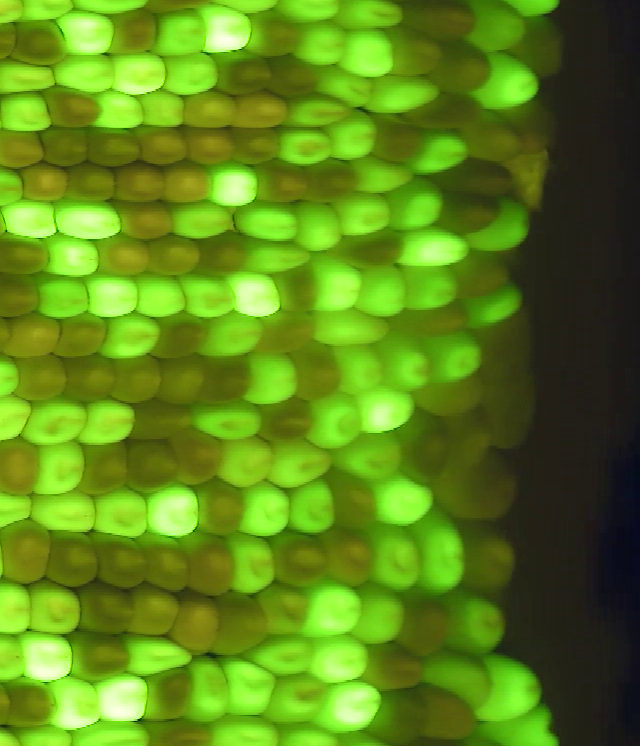fluorescent: (410, 503, 467, 597), (469, 52, 540, 113), (479, 655, 543, 722), (425, 653, 496, 711), (445, 593, 508, 654), (221, 651, 277, 719), (368, 524, 424, 591), (264, 432, 333, 486), (476, 704, 563, 746), (303, 392, 365, 449), (460, 1, 527, 53), (269, 672, 332, 727), (468, 199, 533, 252), (369, 473, 434, 526), (18, 399, 91, 446), (219, 435, 278, 492), (226, 533, 279, 596), (397, 227, 472, 271), (117, 633, 195, 675), (427, 329, 485, 385), (323, 681, 384, 734), (190, 399, 266, 441), (304, 582, 362, 637), (17, 629, 76, 683), (383, 331, 433, 394), (188, 656, 235, 723), (389, 177, 445, 233), (352, 387, 417, 435), (247, 636, 316, 681), (312, 251, 361, 314), (312, 307, 393, 345), (355, 586, 407, 645), (411, 127, 471, 177), (33, 489, 98, 535), (145, 485, 201, 538), (149, 7, 210, 55), (334, 433, 402, 476), (246, 352, 301, 405), (31, 582, 86, 635), (312, 635, 371, 684), (239, 482, 292, 536), (92, 487, 148, 538), (365, 76, 442, 113), (94, 675, 152, 724), (158, 52, 221, 97), (398, 264, 461, 309), (202, 313, 266, 357), (332, 342, 386, 394), (34, 441, 88, 493), (56, 10, 118, 55), (233, 201, 301, 242), (100, 315, 164, 358), (109, 52, 170, 97), (334, 194, 396, 238), (337, 28, 395, 75), (54, 201, 123, 240), (52, 53, 117, 94), (243, 237, 313, 275), (46, 681, 98, 732), (328, 112, 381, 162), (85, 86, 148, 128), (317, 64, 374, 110), (182, 271, 239, 317), (42, 234, 104, 276), (200, 4, 252, 54), (358, 265, 407, 318), (231, 271, 285, 319), (287, 481, 335, 535), (463, 286, 526, 327), (38, 275, 92, 322), (353, 155, 418, 194), (136, 272, 189, 319), (0, 91, 56, 135), (205, 714, 282, 746), (289, 24, 352, 63), (298, 200, 345, 252), (276, 125, 334, 167), (82, 273, 138, 316), (208, 164, 262, 208), (83, 398, 132, 446), (132, 87, 188, 128), (286, 92, 353, 126), (168, 204, 235, 237), (335, 1, 406, 32), (3, 199, 56, 239), (74, 721, 157, 746), (0, 57, 58, 92), (0, 581, 34, 633), (269, 1, 340, 25), (0, 396, 34, 442), (0, 485, 33, 532), (16, 1, 77, 25), (279, 723, 340, 746), (12, 725, 75, 746), (208, 1, 281, 17), (71, 1, 149, 15), (335, 727, 388, 746), (0, 1, 30, 29), (511, 1, 561, 15)
nonfluorescent: (433, 454, 524, 520), (475, 374, 545, 452), (471, 317, 542, 386), (393, 409, 453, 489), (459, 529, 520, 598), (508, 15, 569, 83), (189, 479, 250, 541), (91, 528, 150, 592), (328, 467, 383, 535), (212, 592, 270, 655), (45, 524, 101, 589), (0, 521, 55, 587), (368, 688, 430, 746), (184, 532, 237, 599), (169, 430, 229, 489), (432, 40, 493, 98), (138, 531, 193, 595), (270, 531, 331, 587), (431, 158, 514, 199), (319, 526, 373, 589), (384, 22, 444, 78), (289, 342, 345, 402), (75, 580, 136, 635), (360, 641, 427, 691), (124, 437, 181, 495), (463, 111, 526, 163), (422, 684, 482, 738), (210, 49, 277, 97), (67, 628, 133, 676), (409, 91, 485, 132), (39, 85, 105, 132), (403, 1, 482, 40), (77, 441, 131, 498), (400, 597, 451, 657), (11, 353, 72, 403), (452, 248, 514, 296), (126, 583, 181, 637), (170, 595, 220, 654), (440, 191, 502, 238), (10, 19, 71, 66), (6, 676, 60, 729), (157, 352, 209, 407), (7, 310, 62, 361), (85, 124, 145, 170), (94, 233, 154, 279), (372, 112, 424, 165), (200, 352, 251, 406), (261, 582, 310, 638), (60, 354, 118, 401), (511, 103, 563, 155), (110, 353, 164, 403), (415, 379, 490, 415), (112, 200, 179, 240), (254, 159, 312, 205), (113, 159, 170, 205), (257, 313, 316, 357), (332, 235, 406, 270), (260, 398, 316, 444), (302, 157, 356, 204), (270, 269, 322, 317), (108, 10, 162, 56), (181, 127, 241, 168), (143, 672, 193, 721), (129, 402, 195, 439), (133, 125, 192, 166), (451, 415, 499, 465), (146, 237, 204, 278), (234, 89, 290, 131), (182, 90, 241, 129), (0, 439, 40, 496), (60, 162, 117, 202), (400, 305, 469, 338), (154, 317, 208, 359), (18, 163, 73, 204), (40, 125, 90, 170), (250, 14, 300, 58), (0, 233, 51, 276), (200, 234, 248, 279), (269, 58, 318, 102), (0, 127, 50, 170), (0, 271, 44, 319), (230, 126, 284, 165), (162, 165, 216, 204), (59, 316, 108, 358), (145, 719, 215, 746), (144, 1, 217, 14)
